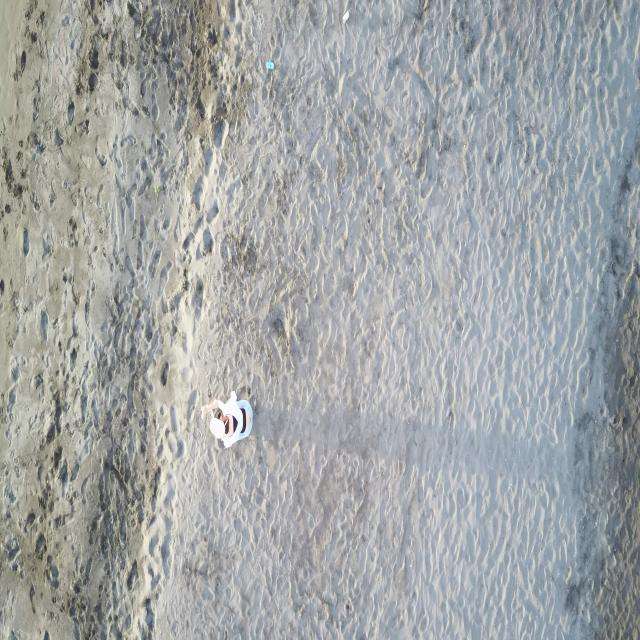tin-and-aluminum-cans: (342, 9, 351, 25), (266, 60, 274, 70)
